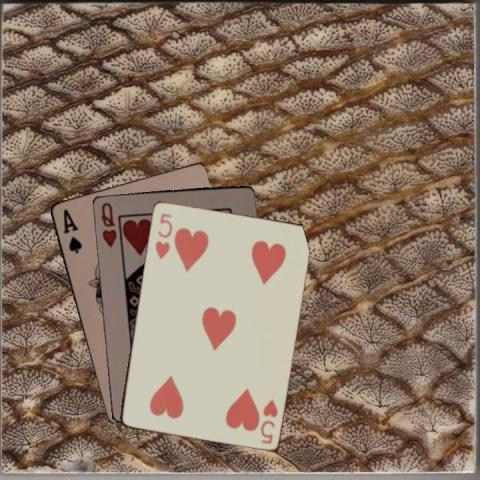5h: (152, 210, 174, 261), (257, 396, 279, 446)
As: (60, 205, 83, 255)
Qh: (97, 199, 118, 249)
